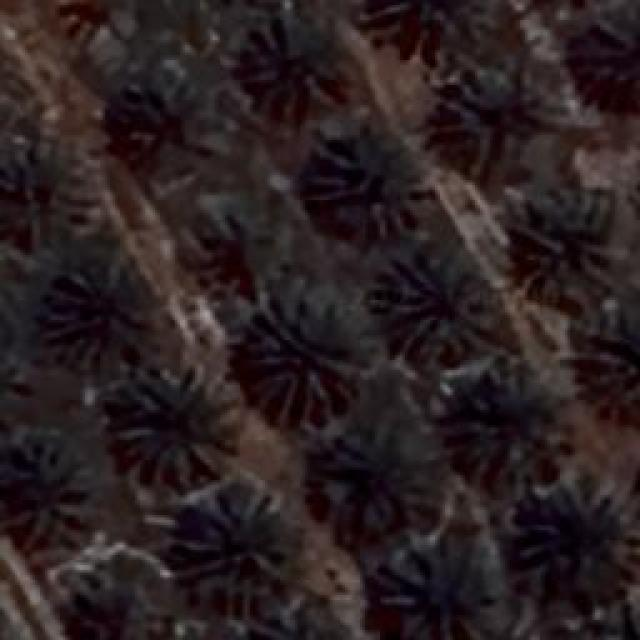PalmTree: (245, 290, 353, 420), (110, 365, 230, 480), (318, 434, 440, 538), (460, 372, 575, 478), (380, 250, 490, 355), (524, 486, 628, 594), (517, 188, 615, 300), (107, 30, 438, 60), (378, 550, 488, 640), (447, 69, 545, 169), (48, 270, 146, 365), (195, 202, 300, 290), (242, 18, 340, 110), (180, 495, 282, 583), (320, 141, 415, 229), (115, 71, 210, 159), (1, 426, 76, 526), (0, 152, 85, 240), (57, 570, 155, 640), (570, 16, 640, 106), (582, 312, 640, 418), (249, 611, 361, 640), (0, 339, 24, 436), (587, 600, 640, 640), (0, 338, 17, 433)
